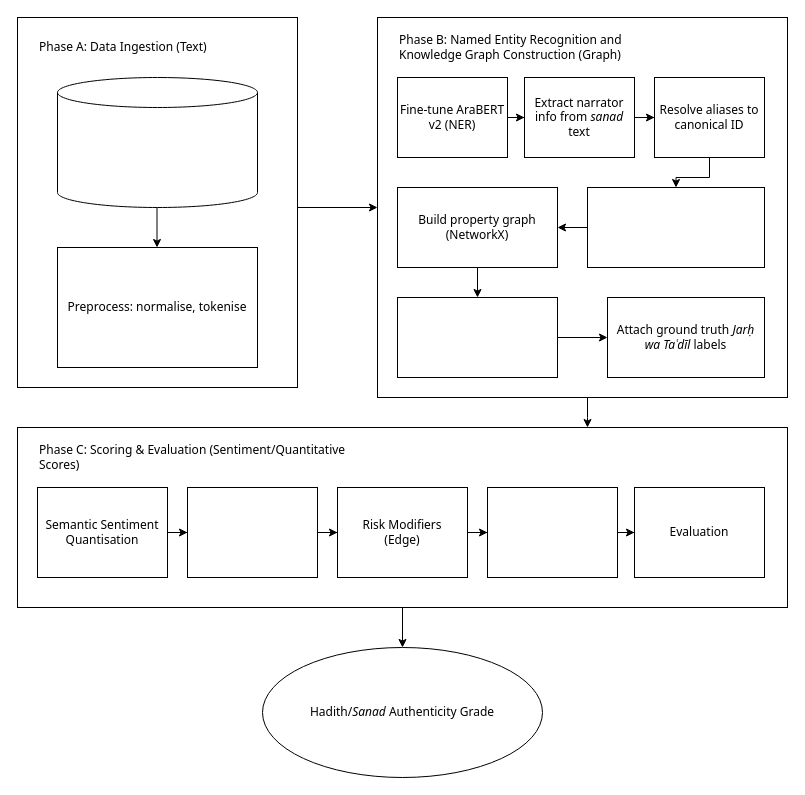
This 805x795 diagram has some shape labels left out. The centre of each missing label's shape, as x and y in pixels:
Chain Scoring: [552,532]
GNN Structural Analysis: [252,532]
Inputs: Biographies, AR‑Sanad, Al-Kutub as-Sitta (for grading): [157,142]
Store attributes (refer Table 1): [477,337]
using KG query (Levenshtein + neighbourhood matching): [675,227]
